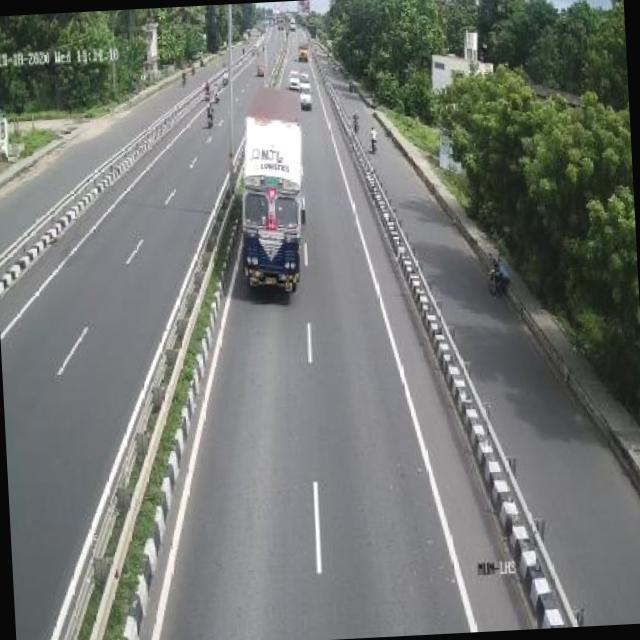car: (298, 74, 316, 115)
